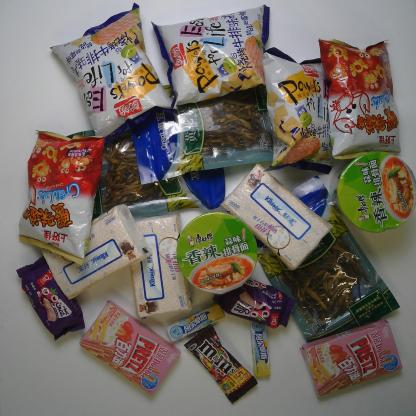Candy: (164, 304, 225, 340), (250, 313, 272, 378)
Chocolate: (185, 324, 258, 404)
Dessert: (79, 300, 181, 396), (301, 318, 403, 397), (16, 254, 84, 340), (213, 274, 295, 330)
Dried Food: (241, 172, 403, 346), (66, 101, 226, 223), (131, 71, 276, 186)
Instant Noodles: (335, 152, 416, 234), (176, 212, 257, 294)
Puffed Food: (48, 1, 177, 142), (150, 5, 271, 109), (16, 130, 107, 265), (318, 37, 404, 161), (261, 46, 336, 171)
Tissue: (220, 162, 333, 271), (41, 203, 152, 300), (125, 213, 193, 319)
